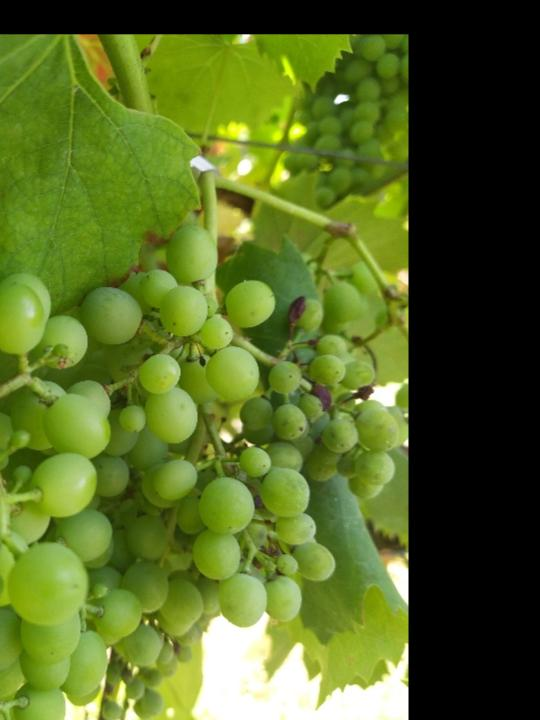grape: (145, 229, 403, 626), (0, 278, 137, 720)
